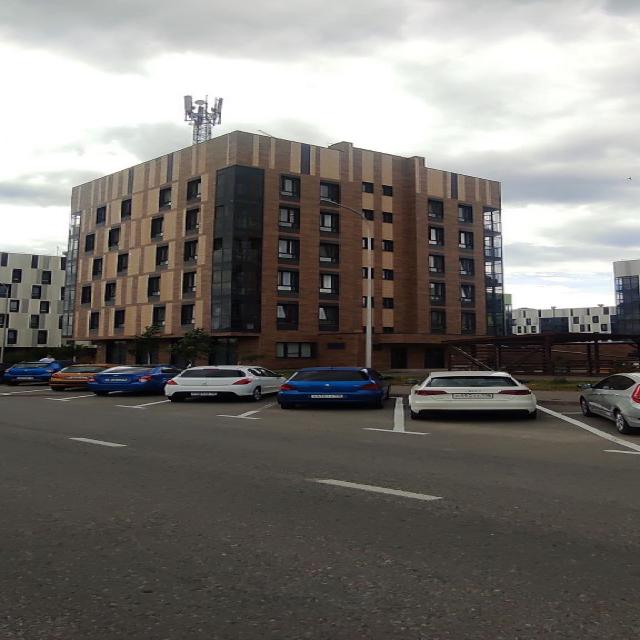Building: (65, 131, 504, 378)
